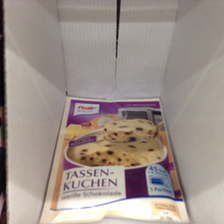cake: (38, 95, 190, 224)
